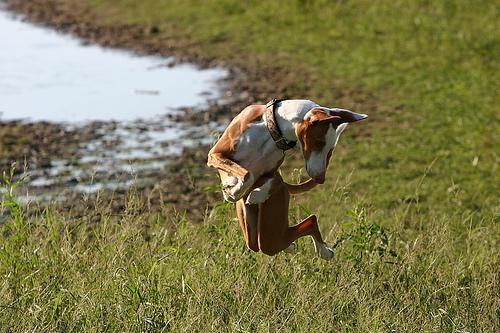Ibizan_hound: (206, 92, 372, 267)
